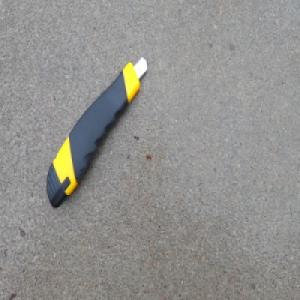Cutter: (47, 54, 149, 209)
